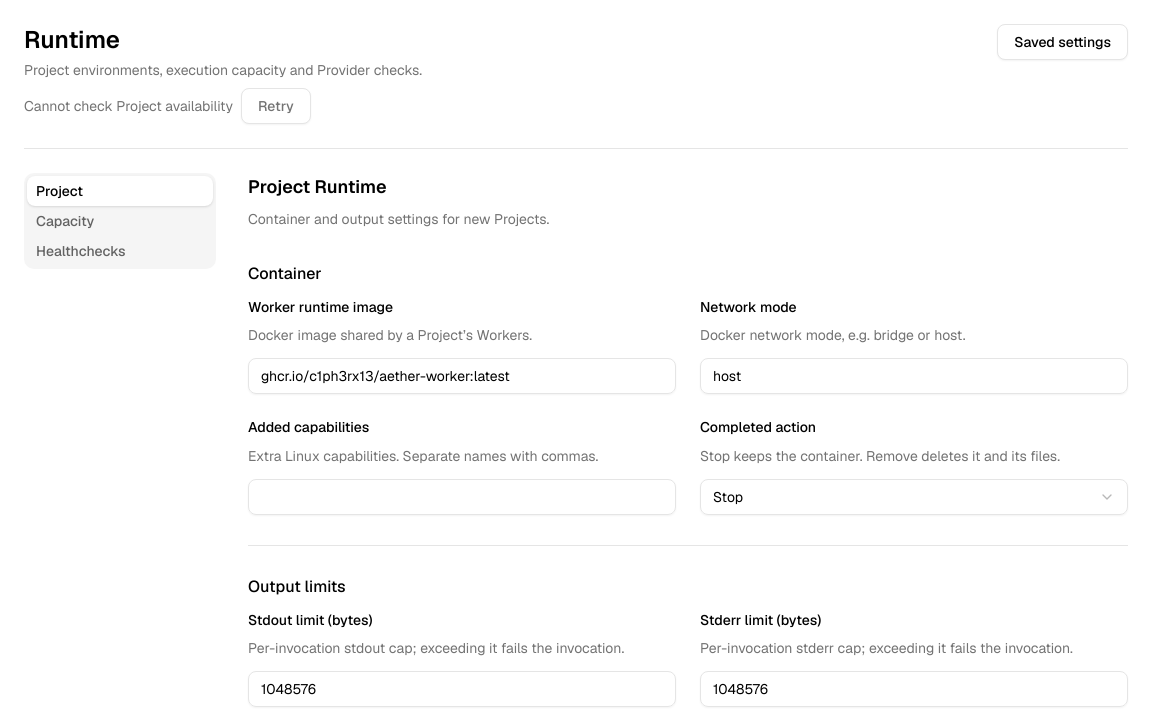
saves only the project-runtime section against its captured complete configuration
Replace the text in the field labelled "Network mode" with "bridge" at (914, 376), box [700,358,1128,394]
(page scrolled)
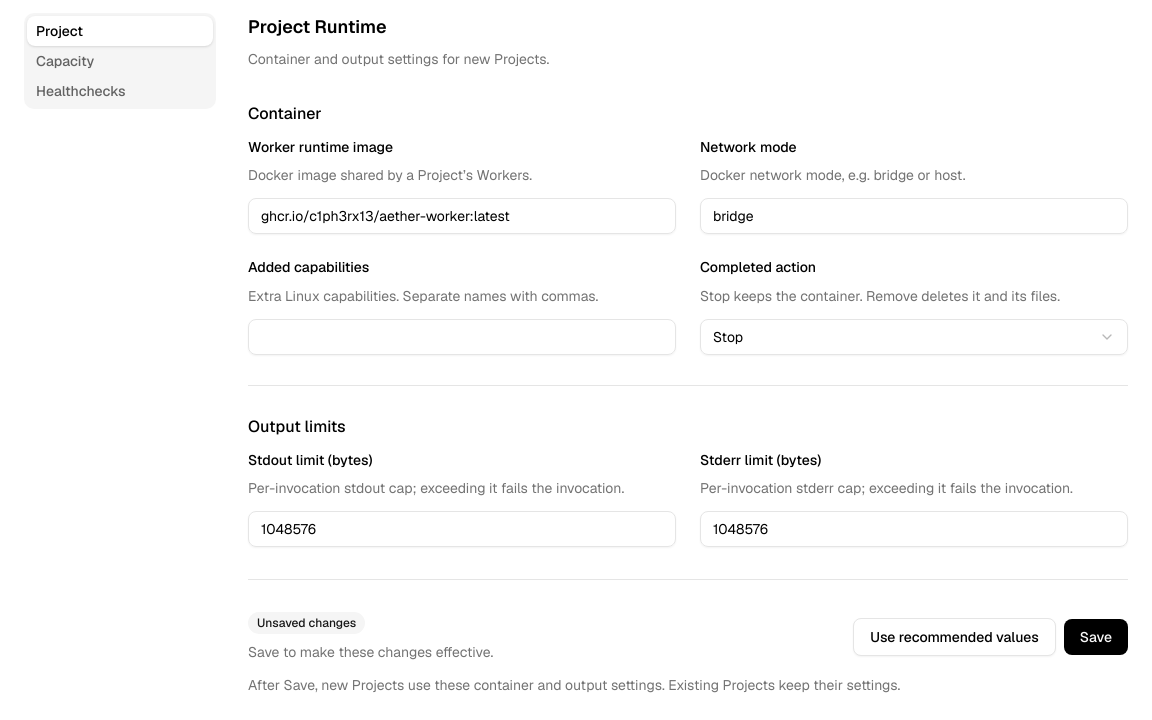
Click the button "Save".
click(1096, 637)  # box [1064,619,1128,655]
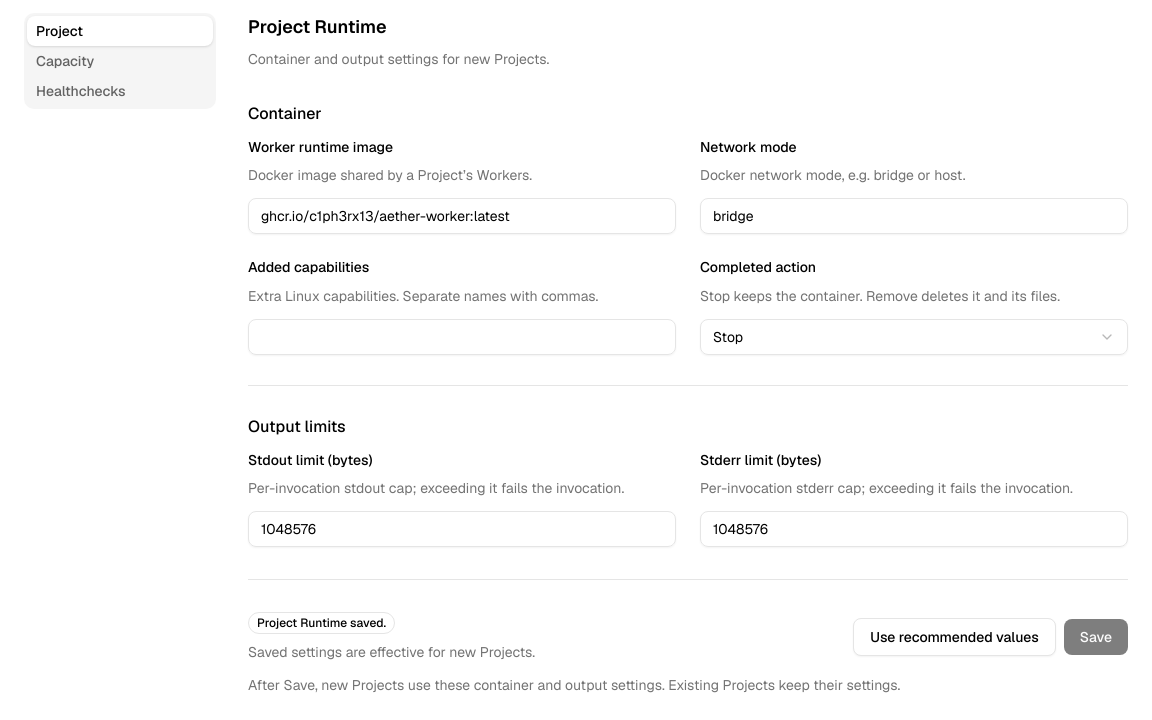
Now the button "Save" is disabled, box [1064,619,1128,655]
